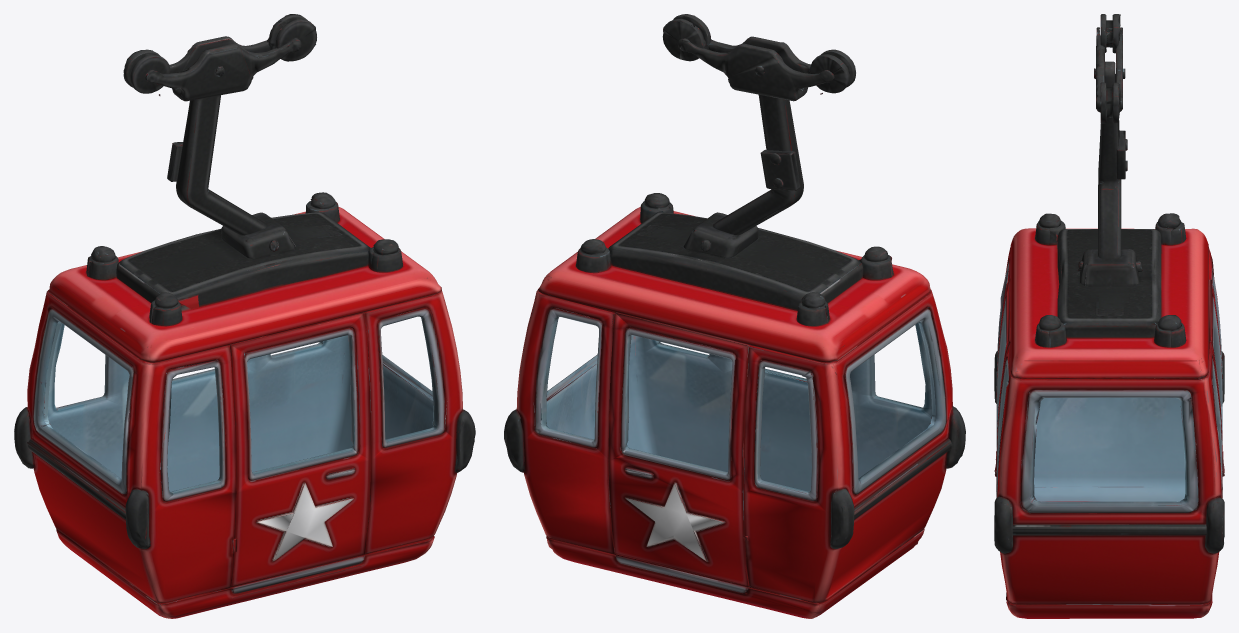
The model's file is meshy-vehicle-gondola.glb.
3 renders of one model, left to right at view 1: azimuth 30°, elevation 25°; view 2: azimuth 150°, elevation 25°; view 3: azimuth 270°, elevation 25°, orthographic. The views are drawn at different scales.
Size of the model in its own units: 0.6548 by 0.9502 by 0.3955.
Materials: 1 (1 with a texture image).
